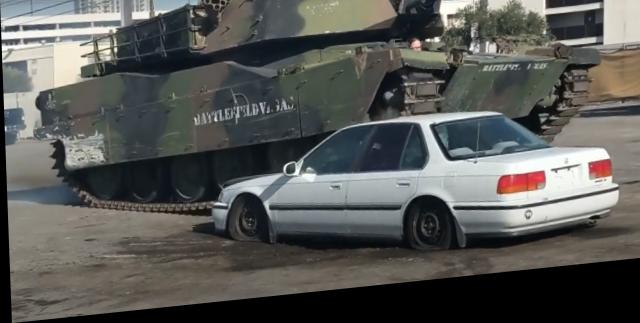tank: (43, 0, 491, 155)
